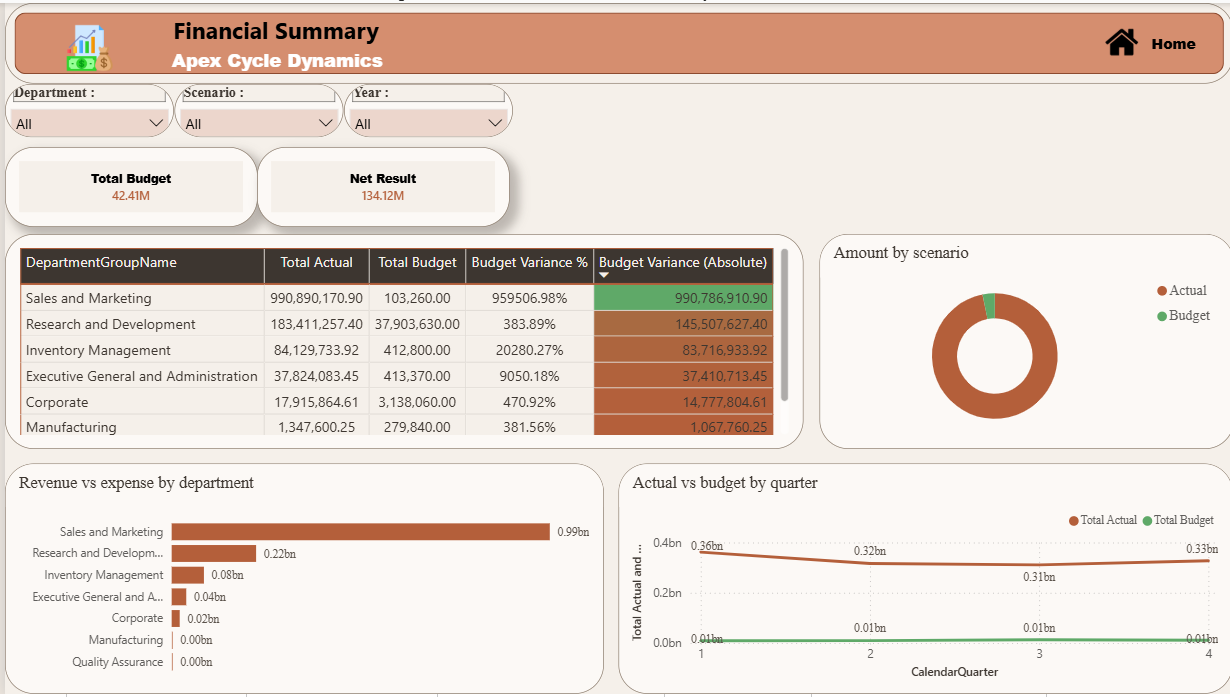

The dashboard page shown, as its layout file describes it:
{"tool":"powerbi","page":{"name":"Financial Summary","canvas":[1280,720],"ordinal":6},"visuals":[{"type":"shape","box":[0,0,1280,84],"z":0},{"type":"textbox","box":[88,6,390,62],"z":1000},{"type":"textbox","title":"Apex Cycle Dynamics","box":[131.2,41.2,304.7,42.1],"z":2000},{"type":"image","box":[1126,22.9,76.8,34.5],"z":3000},{"type":"textbox","box":[1180.9,26,72.3,42.6],"z":4000},{"type":"image","box":[0,21.6,176.4,49.9],"z":5000},{"type":"slicer","fields":{"Values":["DimDepartmentGroup.DepartmentGroupName"]},"box":[0,84.4,176.2,55],"z":7000},{"type":"slicer","fields":{"Values":["DimScenario.ScenarioName"]},"box":[176.6,84.4,176.2,55],"z":8000},{"type":"slicer","fields":{"Values":["DimDate.CalendarYear"]},"box":[353.2,84.4,176.2,55],"z":9000},{"type":"cardVisual","title":"Total sales","fields":{"Data":["FactFinance.Total Budget"]},"box":[0,150,263.3,83.3],"z":10000},{"type":"cardVisual","title":"Total sales","fields":{"Data":["FactFinance.Net Result"]},"box":[262.6,150,263.3,83.3],"z":11000},{"type":"lineChart","title":"Actual vs budget by quarter","fields":{"Y":["FactFinance.Total Actual","FactFinance.Total Budget"],"Category":["DimDate.CalendarQuarter"]},"box":[640,480,640,240],"z":12000},{"type":"donutChart","title":"Amount by scenario","fields":{"Y":["Sum(FactFinance.Amount)"],"Category":["DimScenario.ScenarioName"]},"box":[848,240,432,224],"z":13000},{"type":"clusteredBarChart","title":"Revenue vs expense by department","fields":{"Category":["DimDepartmentGroup.DepartmentGroupName"],"Y":["Sum(FactFinance.Amount)"]},"box":[0,480,624,240],"z":14000},{"type":"tableEx","fields":{"Values":["DimDepartmentGroup.DepartmentGroupName","FactFinance.Total Actual","FactFinance.Total Budget","FactFinance.Budget Variance %","FactFinance.Budget Variance (Absolute)"]},"box":[0,240,832,224],"z":15000}]}

Visuals, with their boxes in screenshot pixels (x1, y1, x2, y2), scaled from the page's 1280x720 canvas onto the 1230x697 screenshot:
shape: crop(0, 0, 1229, 81)
textbox: crop(85, 6, 459, 66)
"Apex Cycle Dynamics" textbox: crop(126, 40, 419, 81)
image: crop(1082, 22, 1156, 56)
textbox: crop(1135, 25, 1204, 66)
image: crop(0, 21, 170, 69)
slicer - DimDepartmentGroup.DepartmentGroupName: crop(0, 82, 169, 135)
slicer - DimScenario.ScenarioName: crop(170, 82, 339, 135)
slicer - DimDate.CalendarYear: crop(339, 82, 509, 135)
"Total sales" cardVisual: crop(0, 145, 253, 226)
"Total sales" cardVisual: crop(252, 145, 505, 226)
"Actual vs budget by quarter" lineChart: crop(615, 465, 1229, 696)
"Amount by scenario" donutChart: crop(815, 232, 1229, 449)
"Revenue vs expense by department" clusteredBarChart: crop(0, 465, 600, 696)
tableEx - DimDepartmentGroup.DepartmentGroupName x FactFinance.Total Actual: crop(0, 232, 800, 449)
